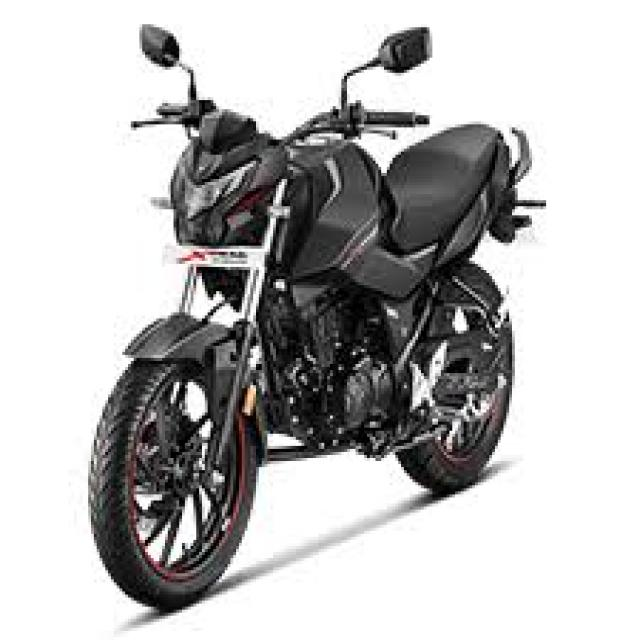Bike: (86, 22, 546, 612)
